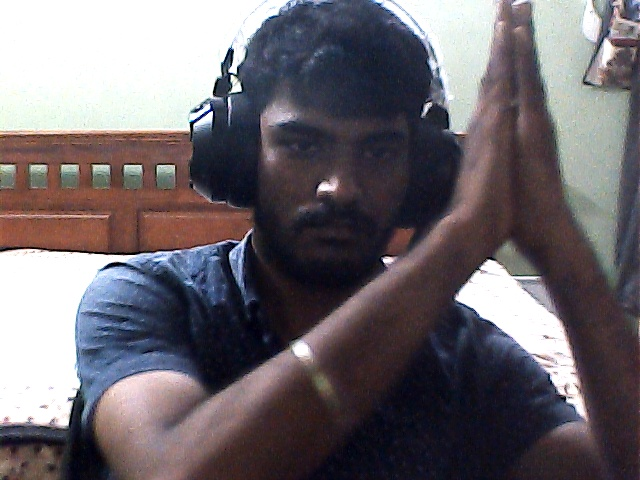Sign: (449, 1, 581, 285)
